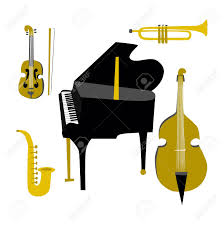Piano: (43, 33, 177, 196)
Saxophone: (10, 120, 62, 199)
Violin: (16, 17, 72, 113)
